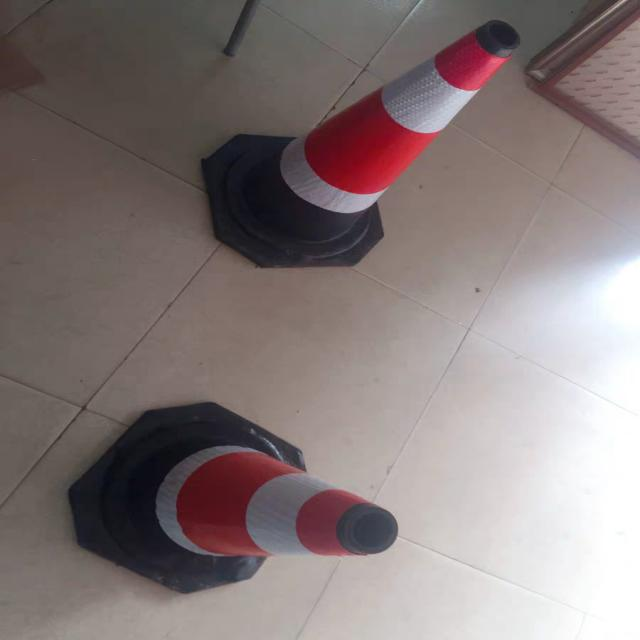reflective_cone: (192, 16, 521, 270), (71, 400, 401, 592)
